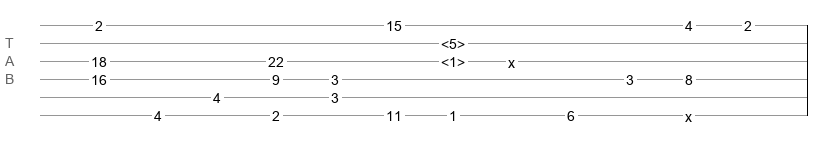1: (449, 108, 457, 118)
11: (386, 108, 402, 118)
15: (386, 18, 402, 28)
16: (91, 72, 107, 82)
18: (91, 54, 107, 64)
2: (95, 18, 103, 28), (272, 108, 280, 118), (744, 18, 752, 28)
22: (268, 54, 284, 64)
3: (331, 90, 339, 100), (331, 72, 339, 82), (626, 72, 634, 82)
4: (154, 108, 162, 118), (213, 90, 221, 100), (685, 18, 693, 28)
6: (567, 108, 575, 118)
8: (685, 72, 693, 82)
9: (272, 72, 280, 82)
harmonic: (441, 54, 465, 64), (441, 36, 465, 46)
x: (508, 55, 515, 63), (685, 109, 692, 117)
